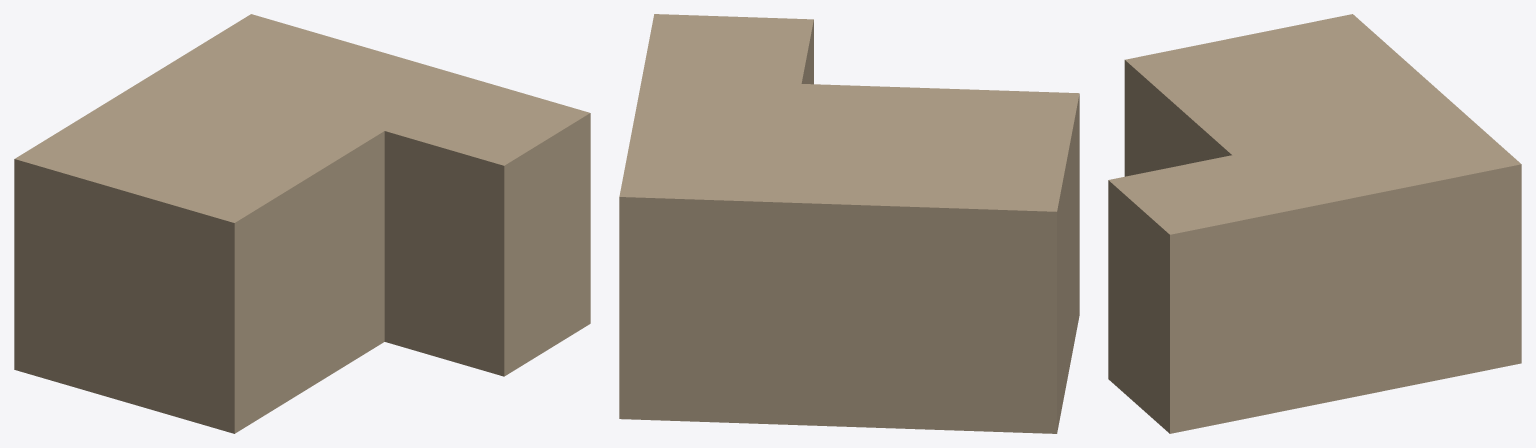
Rendered from bld_99616034.dae.
3 views of the same model, side by side, from view 1: azimuth 30°, elevation 25°; view 2: azimuth 150°, elevation 25°; view 3: azimuth 270°, elevation 25° (orthographic). The views are drawn at different scales.
Parts seen in each view (by area): view 1: bld_99616034; view 2: bld_99616034; view 3: bld_99616034.
Part boxes in pixels (left/top/right/bottom): bld_99616034: left=14, top=14, right=590, bottom=433; bld_99616034: left=619, top=14, right=1079, bottom=433; bld_99616034: left=1108, top=14, right=1521, bottom=433.
Bounding box in the file's own units: 19.03 × 15.05 × 8.
